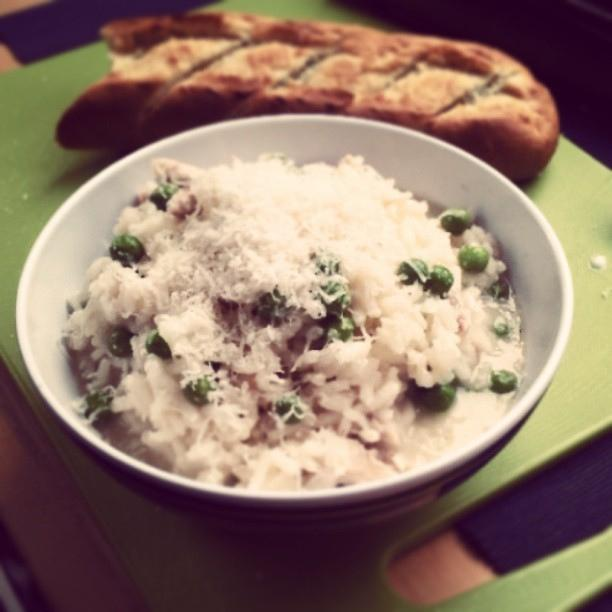pea: (84, 392, 124, 431), (418, 378, 456, 412), (315, 280, 350, 312), (184, 374, 216, 406), (110, 235, 142, 266), (424, 265, 454, 298), (458, 245, 490, 274), (441, 208, 472, 236), (148, 183, 180, 210), (108, 330, 138, 357), (146, 329, 172, 360), (397, 259, 428, 285), (488, 370, 518, 394), (261, 289, 286, 313), (336, 316, 354, 342), (260, 309, 272, 327), (491, 285, 506, 298), (494, 324, 509, 336)
